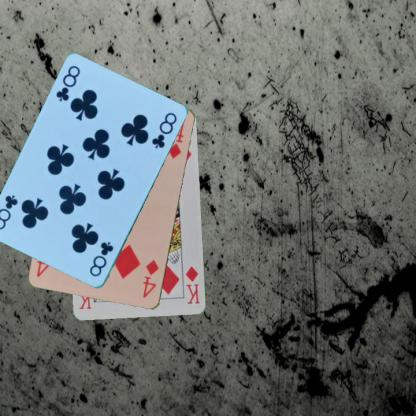4d: (140, 258, 160, 299)
8c: (53, 63, 82, 103), (87, 239, 115, 279)
Kd: (183, 263, 201, 306)
